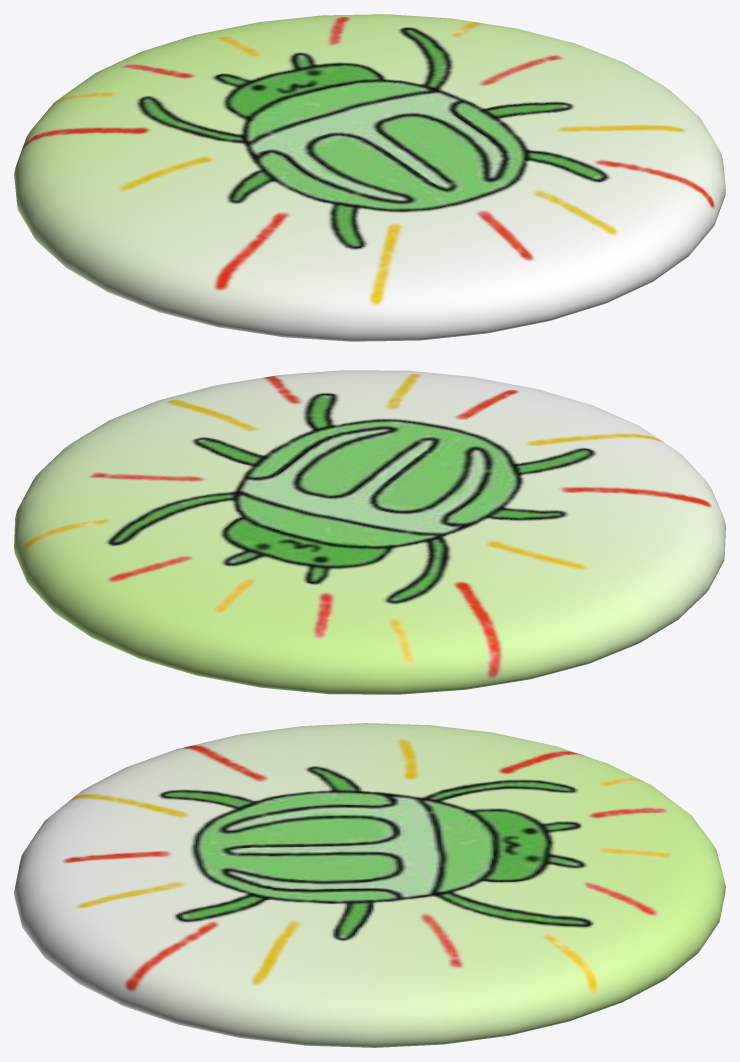
3 views of the same model, one above another, from view 1: azimuth 30°, elevation 25°; view 2: azimuth 150°, elevation 25°; view 3: azimuth 270°, elevation 25° (orthographic).
Parts seen in each view (by area): view 1: Button_Pin; view 2: Button_Pin; view 3: Button_Pin.
Boxes of the visible parts, x1=… form: Button_Pin: x1=14, y1=14, x2=725, y2=341; Button_Pin: x1=14, y1=370, x2=725, y2=694; Button_Pin: x1=14, y1=723, x2=725, y2=1047.
Bounding box in the file's own units: 0.0629 × 0.00761 × 0.0629.
3 materials, 2 textured.
